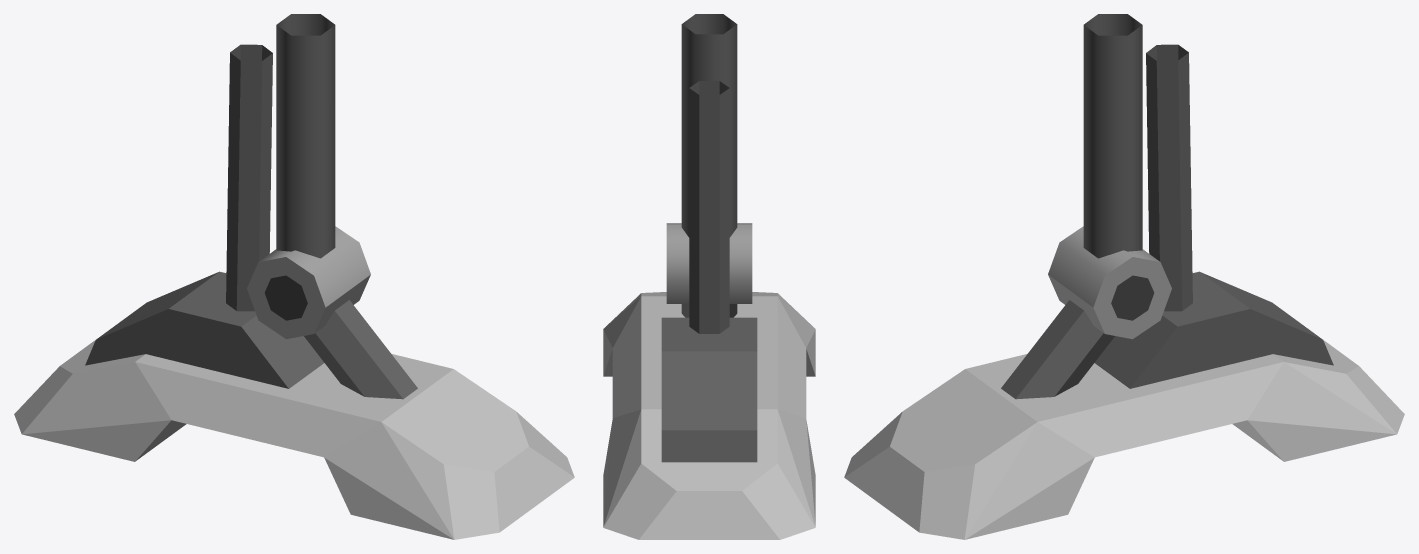
File: Chassis_002.fbx
3 renders of one model, left to right at view 1: azimuth 30°, elevation 25°; view 2: azimuth 150°, elevation 25°; view 3: azimuth 270°, elevation 25°, orthographic. The views are drawn at different scales.
Visible parts, largest first — view 1: Chassis_002; view 2: Chassis_002; view 3: Chassis_002.
Boxes of the visible parts, <box> form: Chassis_002: <box>14,14,574,539</box>; Chassis_002: <box>603,14,815,539</box>; Chassis_002: <box>844,14,1404,539</box>.
Bounding box in the file's own units: 192 × 242 × 202.
